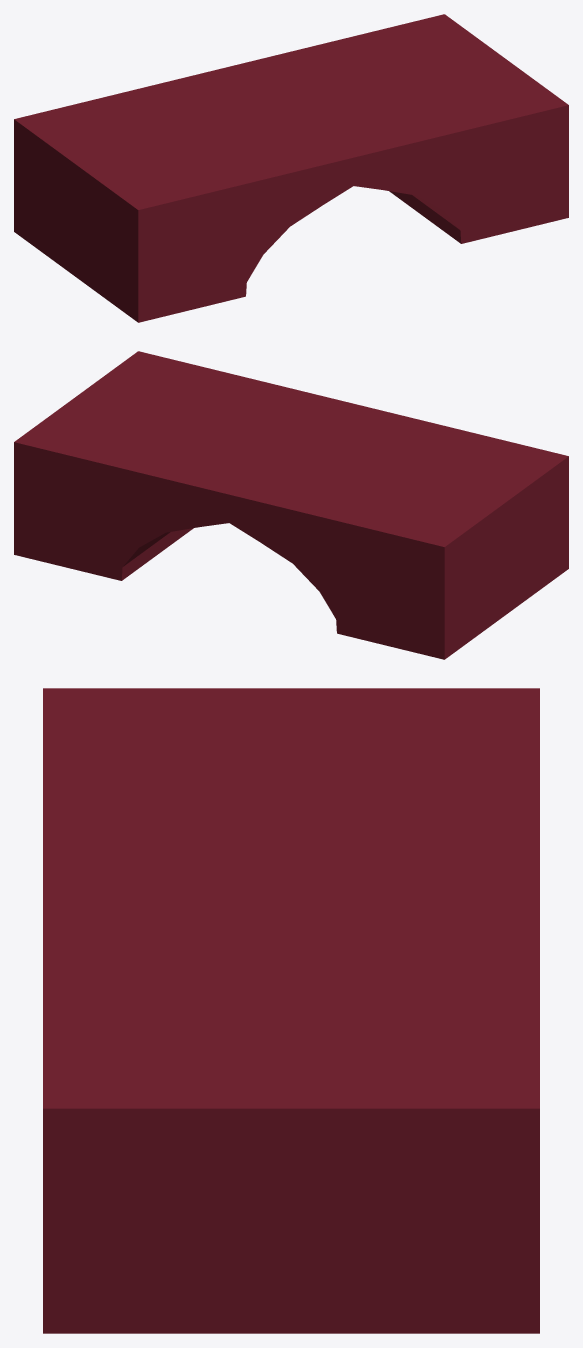
File: ark_top_001_msh 1.fbx
3 renders of one model, top to bottom at view 1: azimuth 30°, elevation 25°; view 2: azimuth 150°, elevation 25°; view 3: azimuth 270°, elevation 25°, orthographic. The views are drawn at different scales.
Visible parts, largest first — view 1: ark_top_001_msh; view 2: ark_top_001_msh; view 3: ark_top_001_msh.
Part boxes in pixels (x1=…): ark_top_001_msh: x1=14, y1=14, x2=568, y2=322; ark_top_001_msh: x1=14, y1=351, x2=568, y2=659; ark_top_001_msh: x1=43, y1=688, x2=539, y2=1333.
Size of the model in its own units: 800 by 200 by 400.
